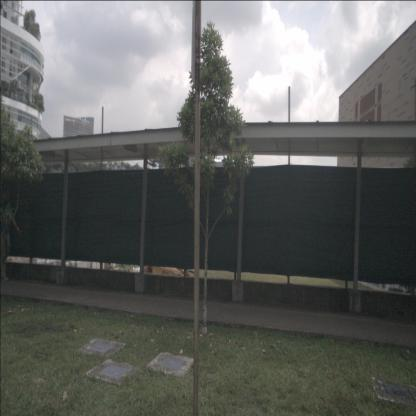human-pedestrian-adult: (0, 187, 22, 282)
